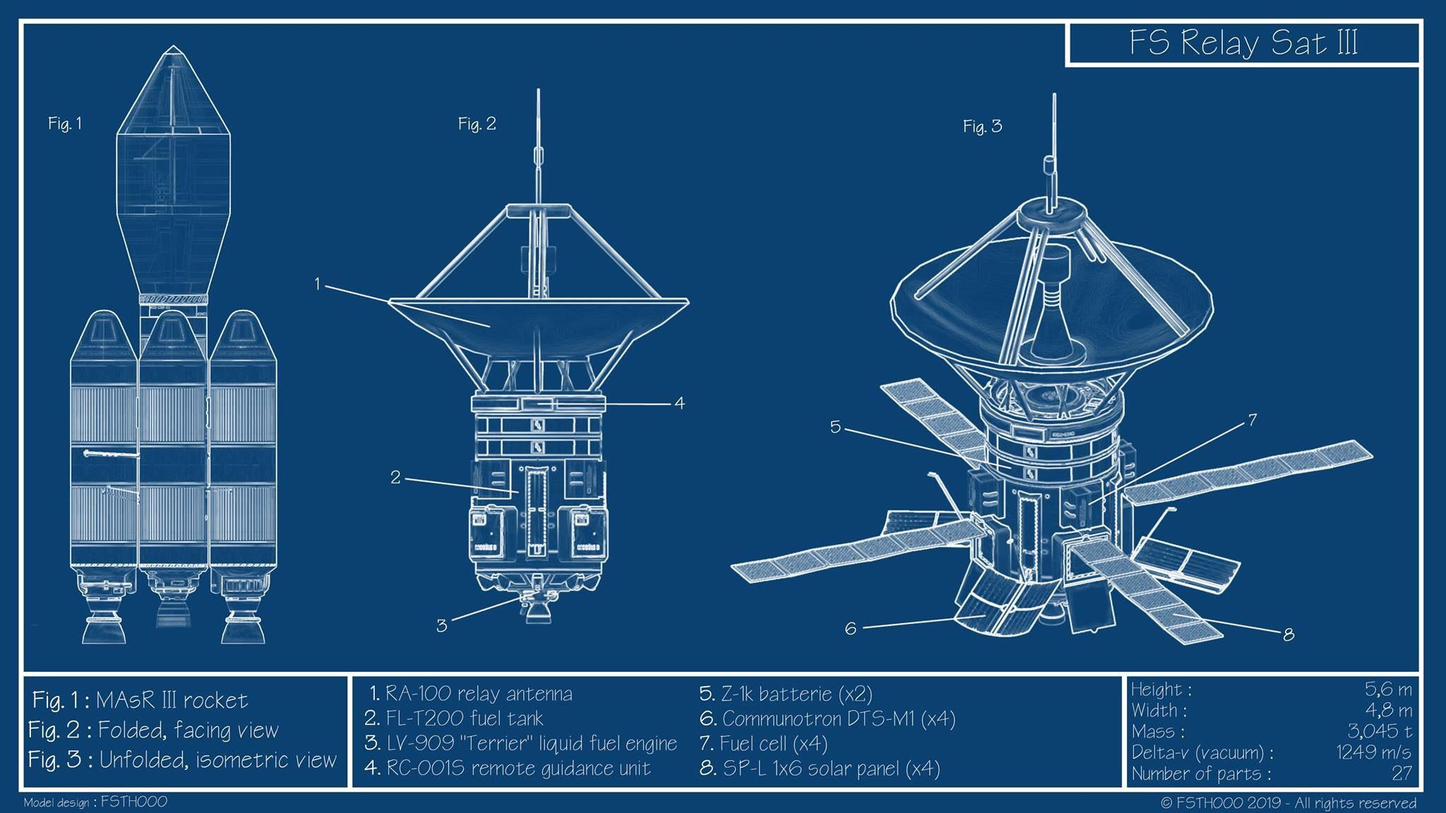antenna: (888, 91, 1217, 387), (385, 83, 693, 370), (952, 537, 1064, 640), (1126, 505, 1244, 597), (876, 470, 981, 550)
body: (978, 378, 1127, 589), (464, 391, 611, 594)
solar: (1068, 537, 1226, 648), (1123, 438, 1376, 507), (729, 518, 988, 585), (878, 375, 996, 470)
thruster: (80, 611, 128, 646), (220, 613, 267, 646), (155, 599, 192, 631), (525, 601, 556, 627), (1037, 603, 1068, 628)
